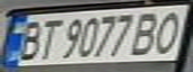0: (78, 13, 103, 60)
7: (109, 11, 139, 58), (96, 11, 121, 58)
9: (57, 15, 84, 60)
B: (127, 8, 166, 56), (12, 17, 48, 61)
O: (148, 7, 190, 55)
T: (33, 16, 63, 61)
